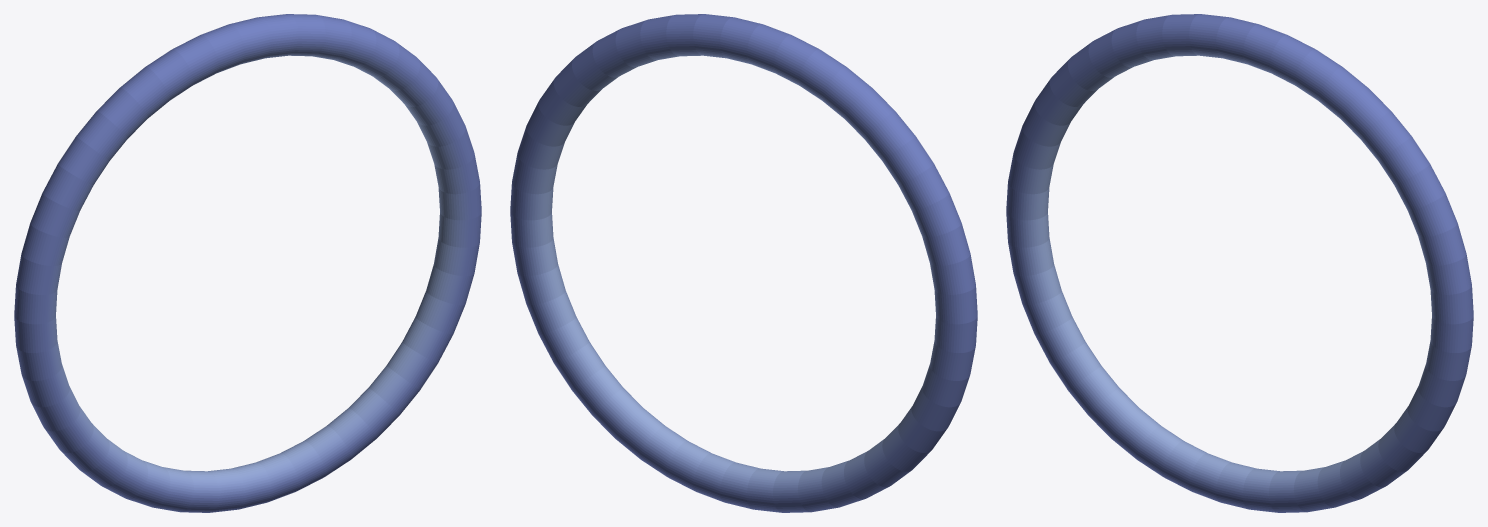
3 views of the same model, side by side, from view 1: azimuth 30°, elevation 25°; view 2: azimuth 150°, elevation 25°; view 3: azimuth 330°, elevation 25° (orthographic).
Visible parts, largest first — view 1: world; view 2: world; view 3: world.
Part boxes in pixels (x1,y1,x2,y2): world: (14,14,481,512); world: (510,14,977,512); world: (1006,14,1473,512).
Size of the model in its own units: 28.93 by 28.88 by 2.26.
